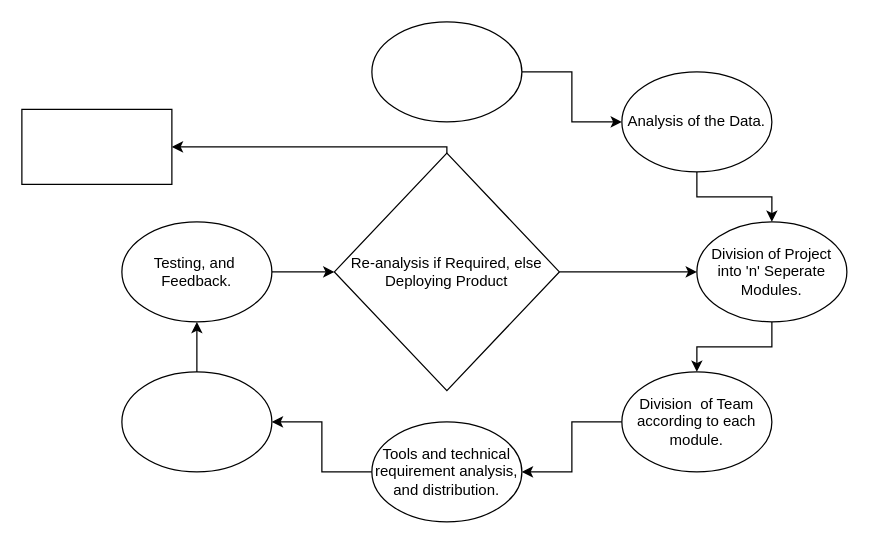
This 869x544 diagram has some shape labels left out. The centre of each missing label's shape, as x and y in pixels:
Deployment: (96,146)
Development /Iterations: (196,421)
Specification and Requirements Data from Client.: (446,71)
